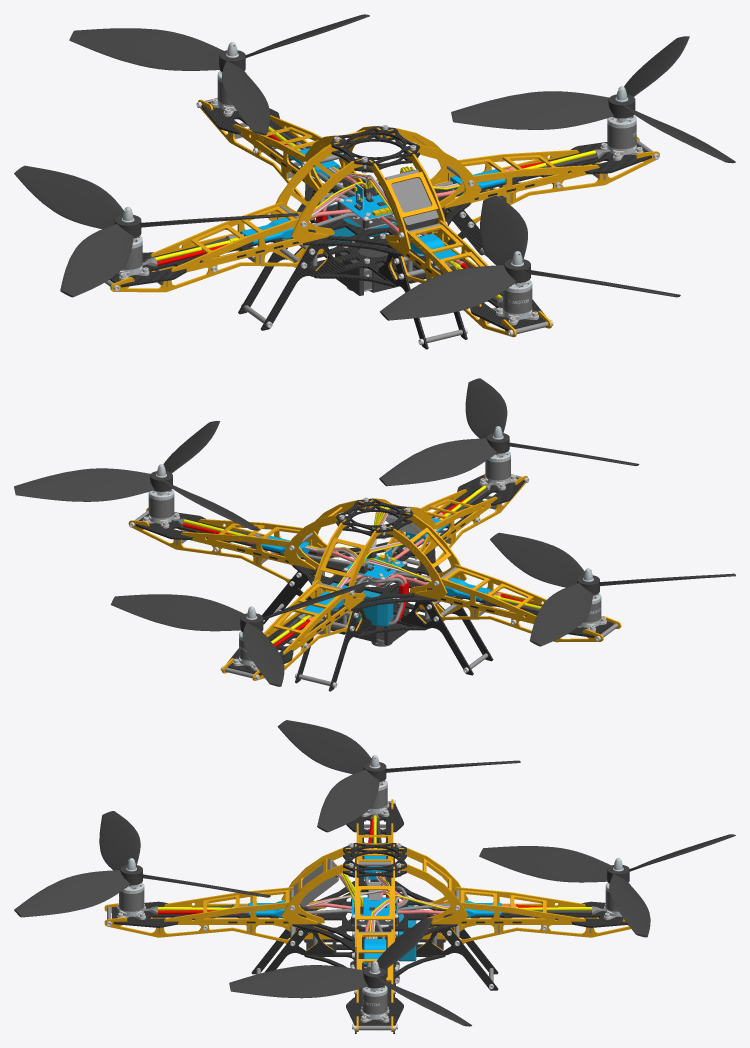
Rendered from Drone.glb.
3 views of the same model, one above another, from view 1: azimuth 30°, elevation 25°; view 2: azimuth 150°, elevation 25°; view 3: azimuth 270°, elevation 25° (orthographic). The views are drawn at different scales.
Visible parts, largest first — view 1: Object_104, Object_101, Object_103, Object_102, Object_117, Object_118, Object_124, Object_120, Object_106, Object_105, Object_112, Object_125 (+19 smaller); view 2: Object_104, Object_101, Object_103, Object_102, Object_117, Object_118, Object_126, Object_119, Object_112, Object_105, Object_106, Object_125 (+16 smaller); view 3: Object_104, Object_101, Object_103, Object_102, Object_117, Object_123, Object_121, Object_105, Object_112, Object_118, Object_106, Object_108 (+10 smaller).
Boxes of the visible parts, x1,y1,x2,y2 form: Object_104: (14, 165, 298, 297); Object_101: (380, 195, 680, 320); Object_103: (69, 14, 369, 135); Object_102: (451, 36, 735, 163); Object_117: (191, 127, 555, 271); Object_118: (268, 125, 410, 256); Object_124: (110, 218, 341, 292); Object_120: (436, 151, 659, 232); Object_106: (238, 126, 428, 349); Object_105: (260, 188, 483, 339); Object_112: (297, 178, 470, 256); Object_125: (198, 99, 328, 220); Object_104: (490, 532, 735, 646); Object_101: (379, 378, 639, 486); Object_103: (111, 582, 370, 686); Object_102: (14, 421, 259, 530); Object_117: (219, 498, 533, 634); Object_118: (310, 506, 466, 611); Object_126: (128, 520, 321, 590); Object_119: (404, 578, 603, 642); Object_112: (292, 542, 442, 610); Object_105: (262, 553, 493, 691); Object_106: (336, 498, 473, 675); Object_125: (252, 592, 365, 680); Object_104: (277, 720, 520, 832); Object_101: (14, 811, 270, 917); Object_103: (479, 834, 735, 937); Object_102: (229, 918, 471, 1026); Object_117: (203, 835, 546, 981); Object_123: (104, 902, 333, 957); Object_121: (416, 902, 630, 957); Object_105: (265, 927, 498, 1033); Object_112: (292, 880, 457, 951); Object_118: (281, 842, 468, 925); Object_106: (251, 843, 406, 974); Object_108: (112, 901, 322, 927).
Bounding box in the file's own units: 0.7876 × 0.154 × 0.7876.
Materials: 35 (3 with a texture image).
